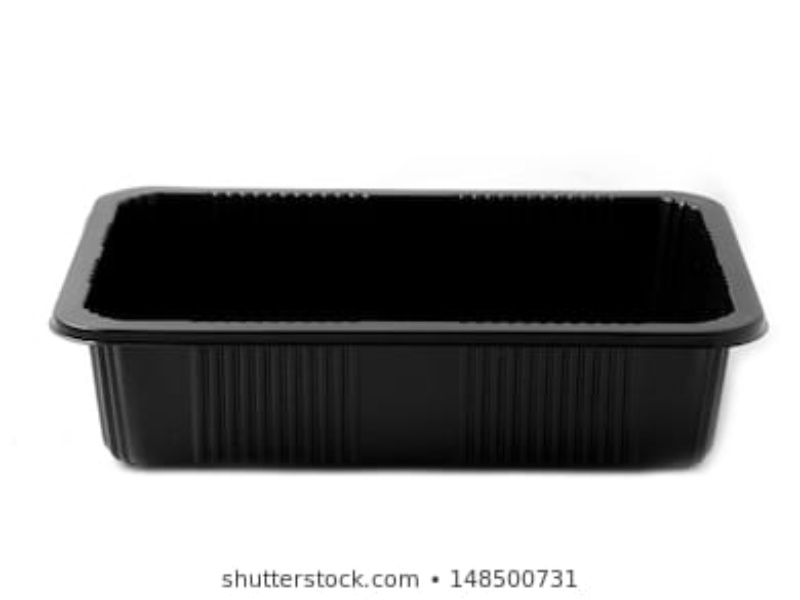plastic-container: (45, 173, 772, 471)
